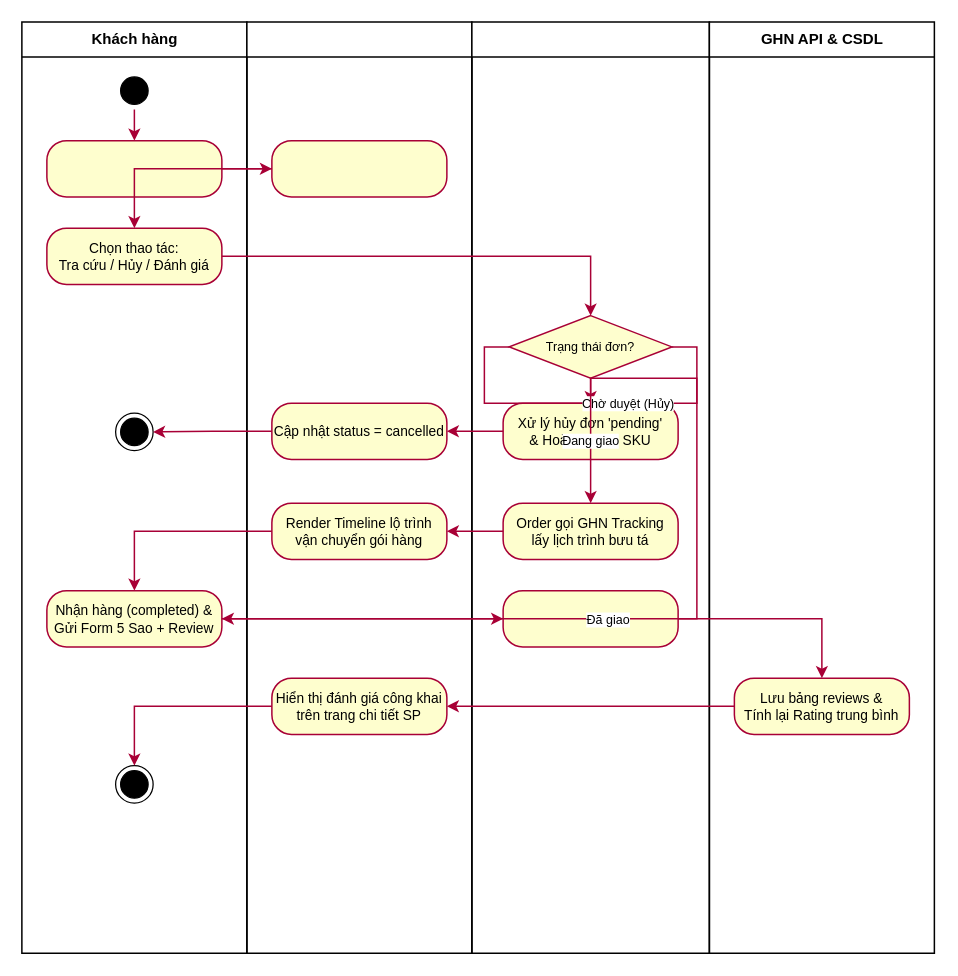
Image size: 958x976. Some labels were removed from this diagram. Here are the shapes that lost their labels. From the top down, the box of each, then its label:
(46, 139, 222, 197): Xem danh sách đơn hàng tại 'Lịch sử mua hàng'
(270, 139, 447, 197): Hiển thị trạng thái đơn & Tracking Code GHN
(246, 20, 472, 953): Giao diện
(470, 20, 709, 953): Hệ thống xử lý
(502, 589, 678, 647): Catalog Service kiểm tra quyền mua & lưu Review
